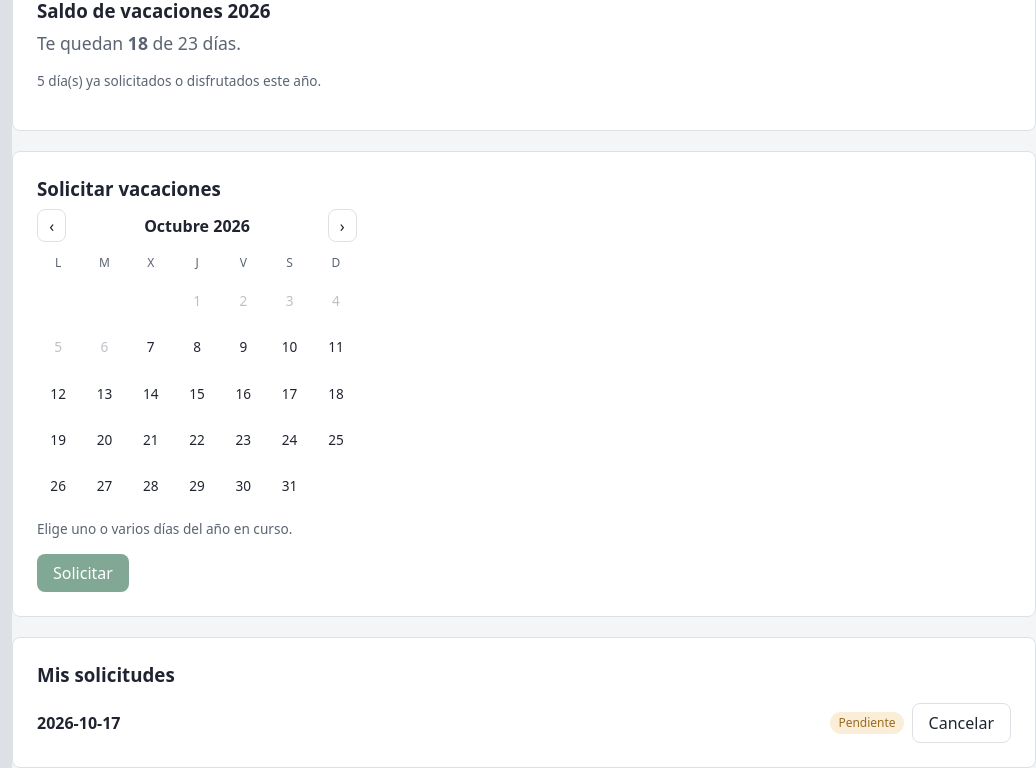
Test: WorkerVacations › usa un mensaje genérico si el error al cancelar no es un ApiError
The image size is (1036, 768).
(page scrolled)
Click the button "Cancelar".
click(961, 723)  # box [912,703,1011,743]
(page scrolled)
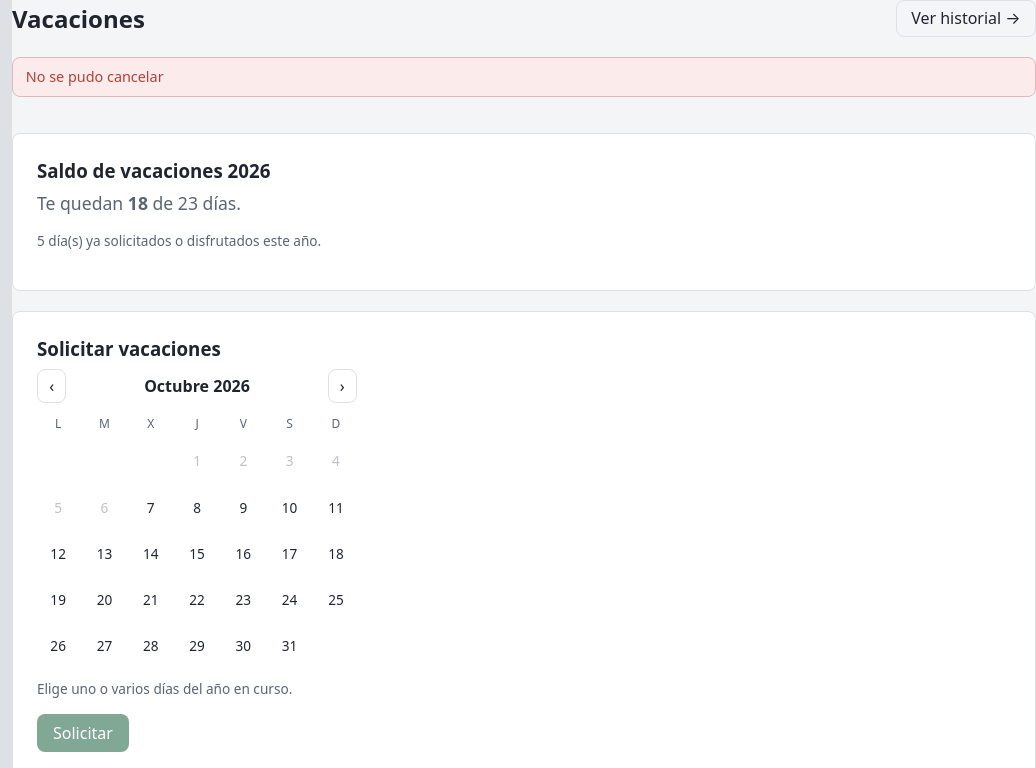
Now the text "No se pudo cancelar" is shown, box [12,57,1035,97]
